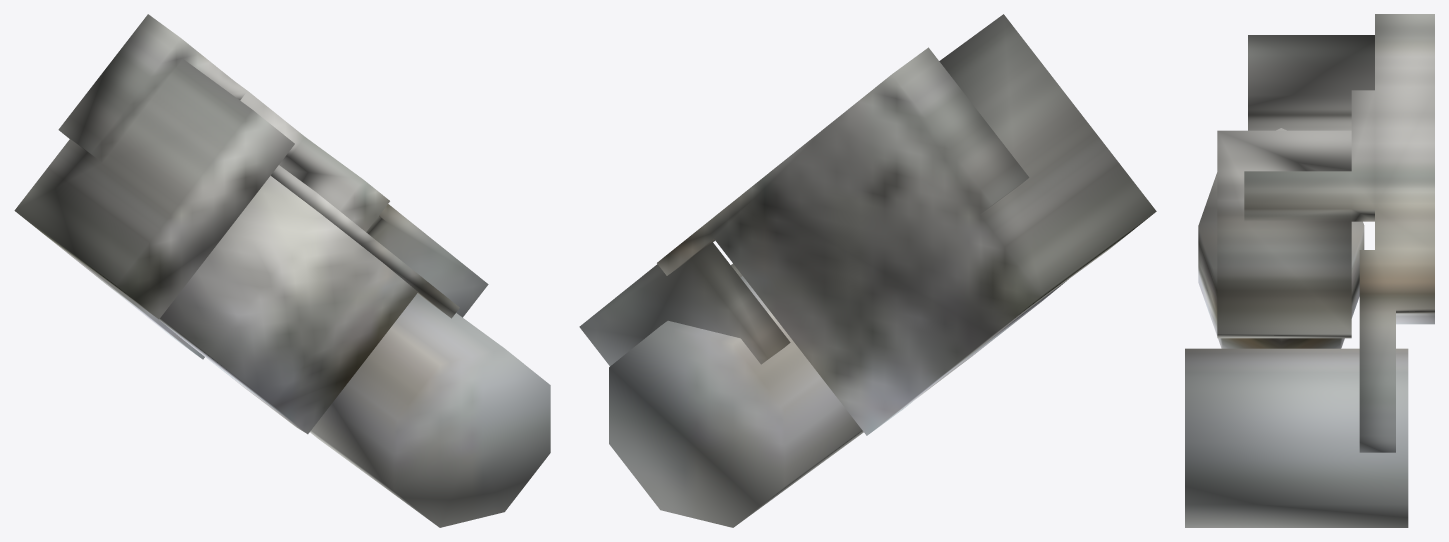
The model's file is dextre_arm_2_shoulder_yaw.dae.
3 views of the same model, side by side, from view 1: azimuth 30°, elevation 25°; view 2: azimuth 150°, elevation 25°; view 3: azimuth 270°, elevation 25° (orthographic). The views are drawn at different scales.
Parts seen in each view (by area): view 1: 29 DEXTRE.005; view 2: 29 DEXTRE.005; view 3: 29 DEXTRE.005.
Part boxes in pixels (x1=…): 29 DEXTRE.005: x1=14, y1=14, x2=550, y2=527; 29 DEXTRE.005: x1=579, y1=14, x2=1156, y2=527; 29 DEXTRE.005: x1=1185, y1=14, x2=1434, y2=527.
Size of the model in its own units: 0.6809 by 0.3704 by 0.6795.
Materials: 1 (1 with a texture image).
